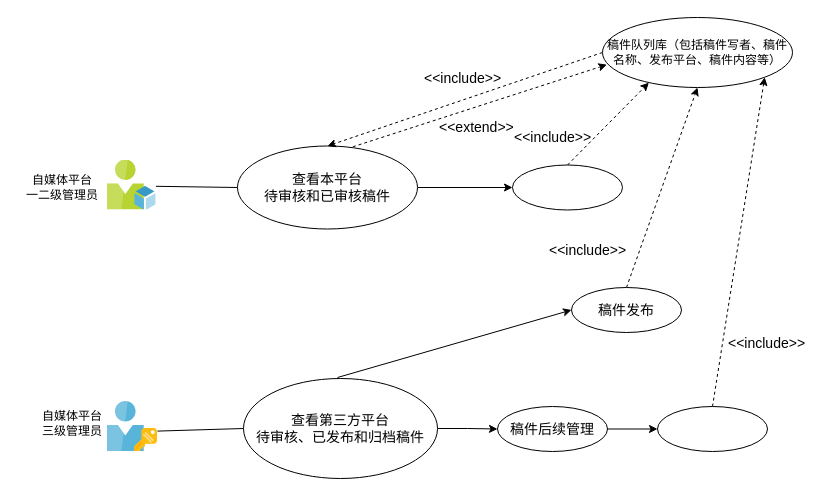
This 833x496 diagram has some shape labels left out. Each missing label, with the centre of its shape:
稿件审核: the point at 567,187
稿件归档: the point at 712,429
